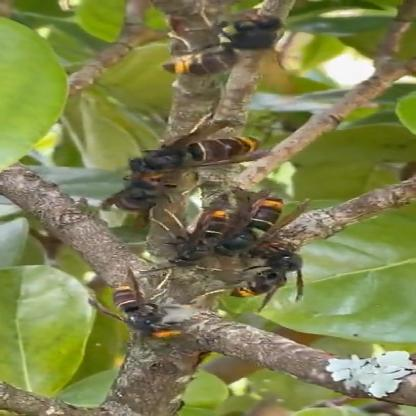bee: (126, 192, 311, 304), (175, 5, 306, 97), (92, 122, 260, 190), (47, 290, 222, 353)
